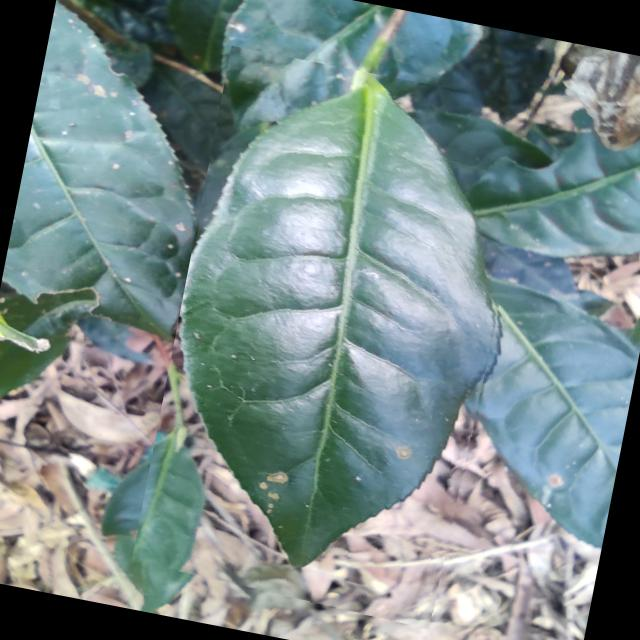Category D(7+ days, Not for Tea): (130, 46, 542, 632)
